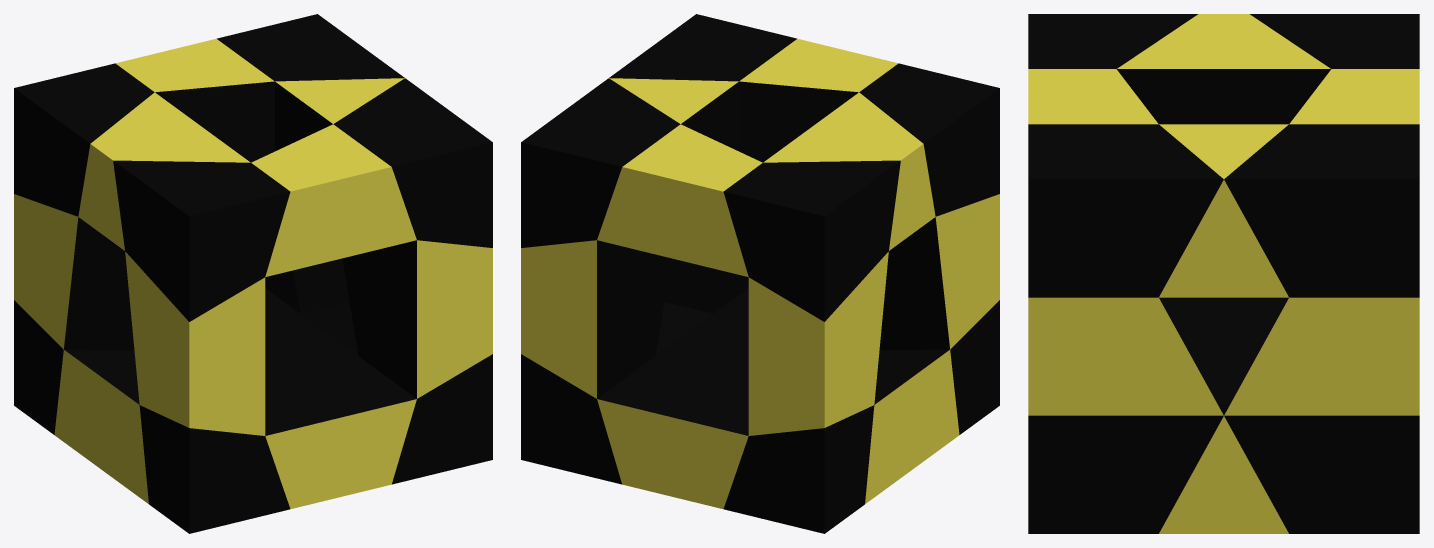
File: bee_cube.glb
The picture shows the model from 3 angles, left to right: view 1: azimuth 30°, elevation 25°; view 2: azimuth 150°, elevation 25°; view 3: azimuth 270°, elevation 25°; orthographic projection. The views are drawn at different scales.
Visible parts, largest first — view 1: Cube; view 2: Cube; view 3: Cube.
Part boxes in pixels (x1=…): Cube: x1=14, y1=14, x2=492, y2=533; Cube: x1=521, y1=14, x2=999, y2=533; Cube: x1=1028, y1=14, x2=1419, y2=533.
Size of the model in its own units: 1 by 1 by 1.
